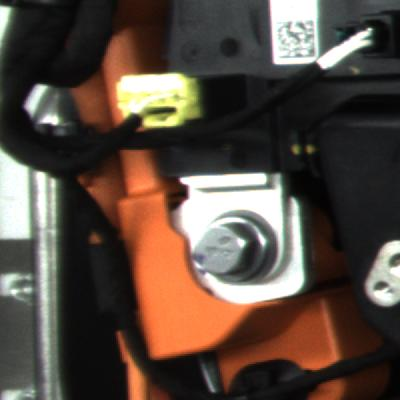nut_b: (186, 206, 286, 297)
